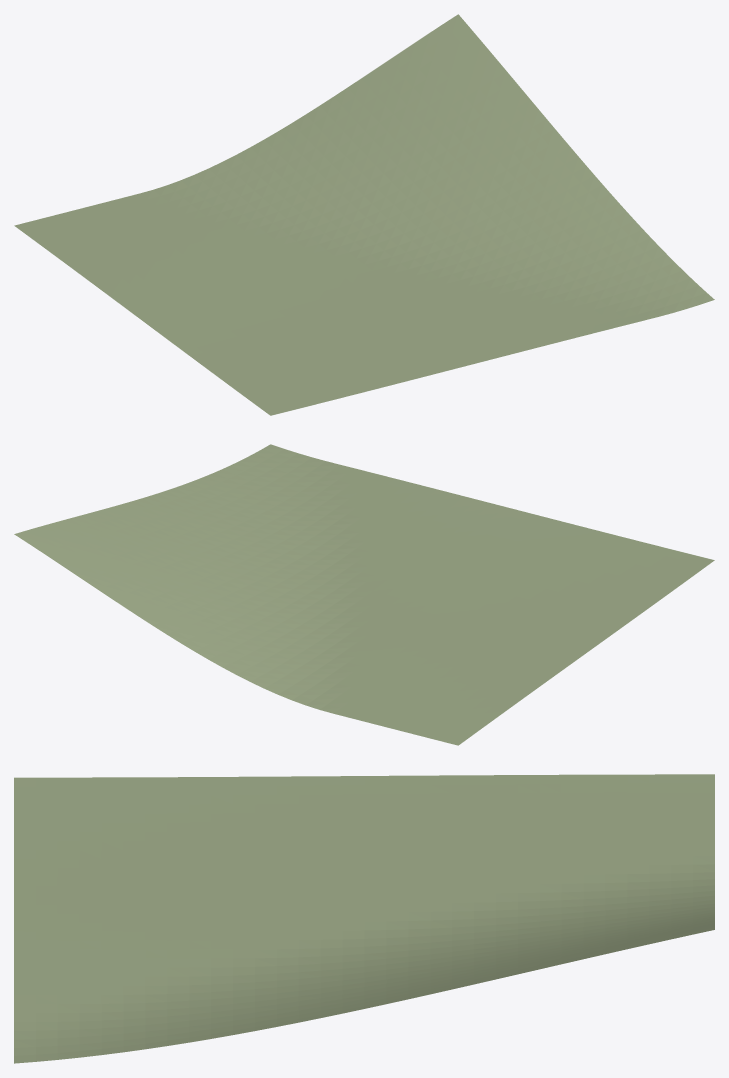
The model's file is desert-18-20.glb.
3 renders of one model, top to bottom at view 1: azimuth 30°, elevation 25°; view 2: azimuth 150°, elevation 25°; view 3: azimuth 270°, elevation 25°, orthographic. The views are drawn at different scales.
Parts seen in each view (by area): view 1: desert-18-20; view 2: desert-18-20; view 3: desert-18-20.
Part boxes in pixels (x1,y1,x2,y2): desert-18-20: [14, 14, 714, 415]; desert-18-20: [14, 444, 714, 745]; desert-18-20: [14, 774, 714, 1063].
Size of the model in its own units: 512 by 116 by 512.
